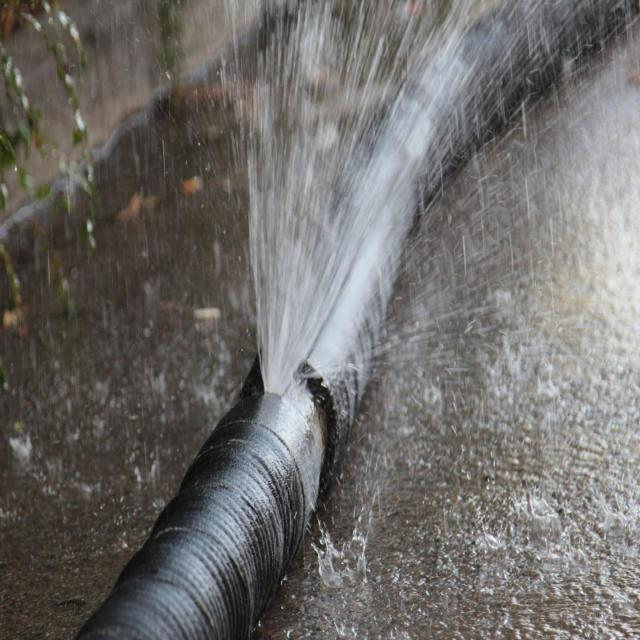leak: (248, 2, 560, 394)
